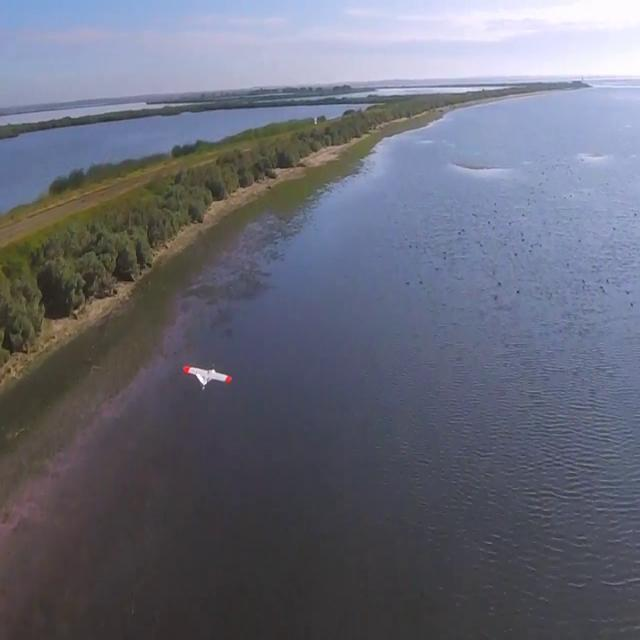iha: (185, 364, 234, 398)
